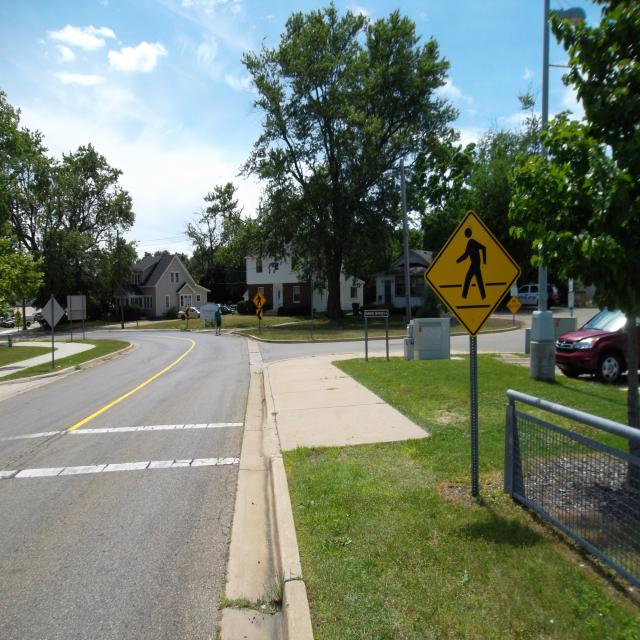regulatory: (184, 298, 191, 308)
warning: (424, 206, 522, 333), (252, 291, 267, 310)
